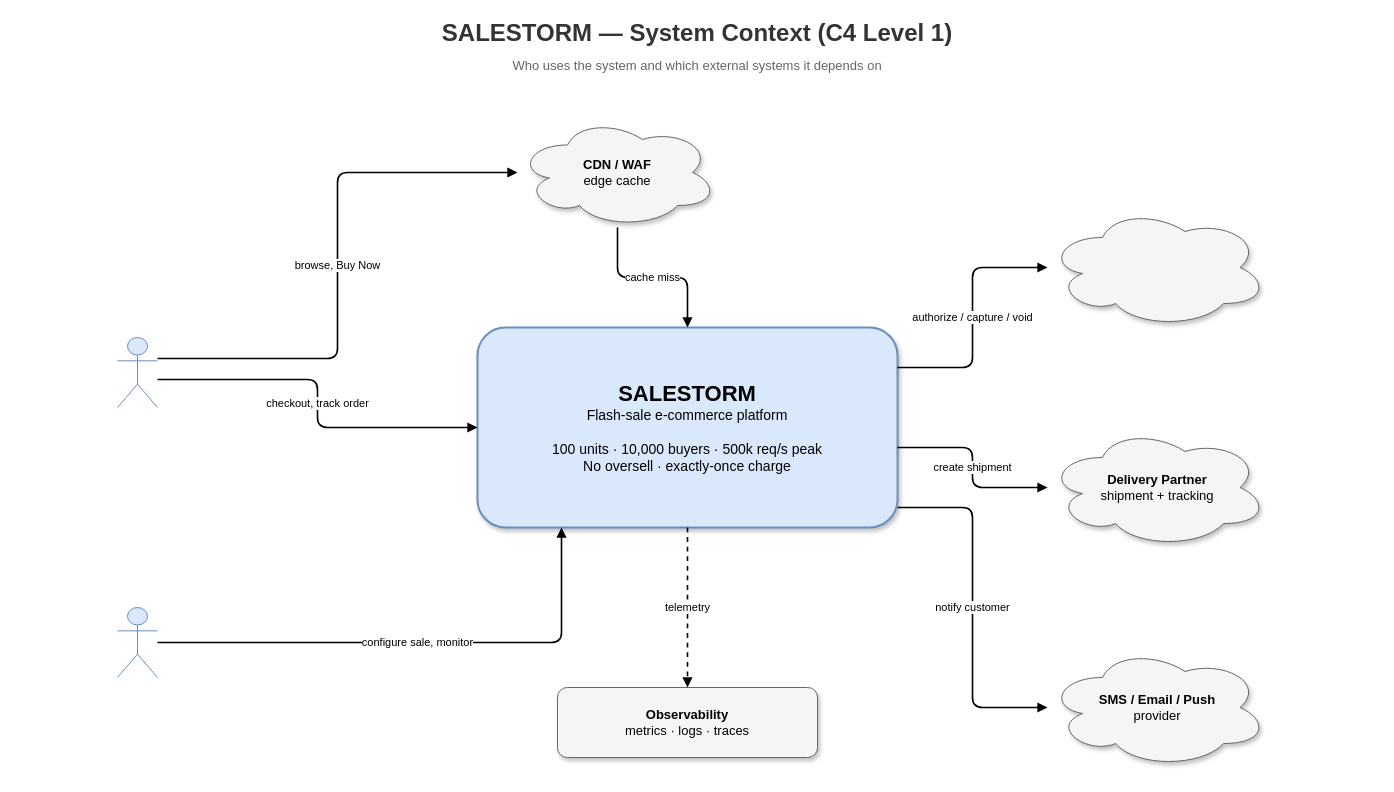
Image size: 1394x792. Some labels were removed from this diagram. The shapes that lost their labels are listed below. From the top down, each one's centre as x and y in pixels, then its label:
At (x=1158, y=268): "Payment Gateway Razorpay / Stripe".
At (x=137, y=372): "Customer (buyer)".
At (x=137, y=642): "Ops / Admin".
